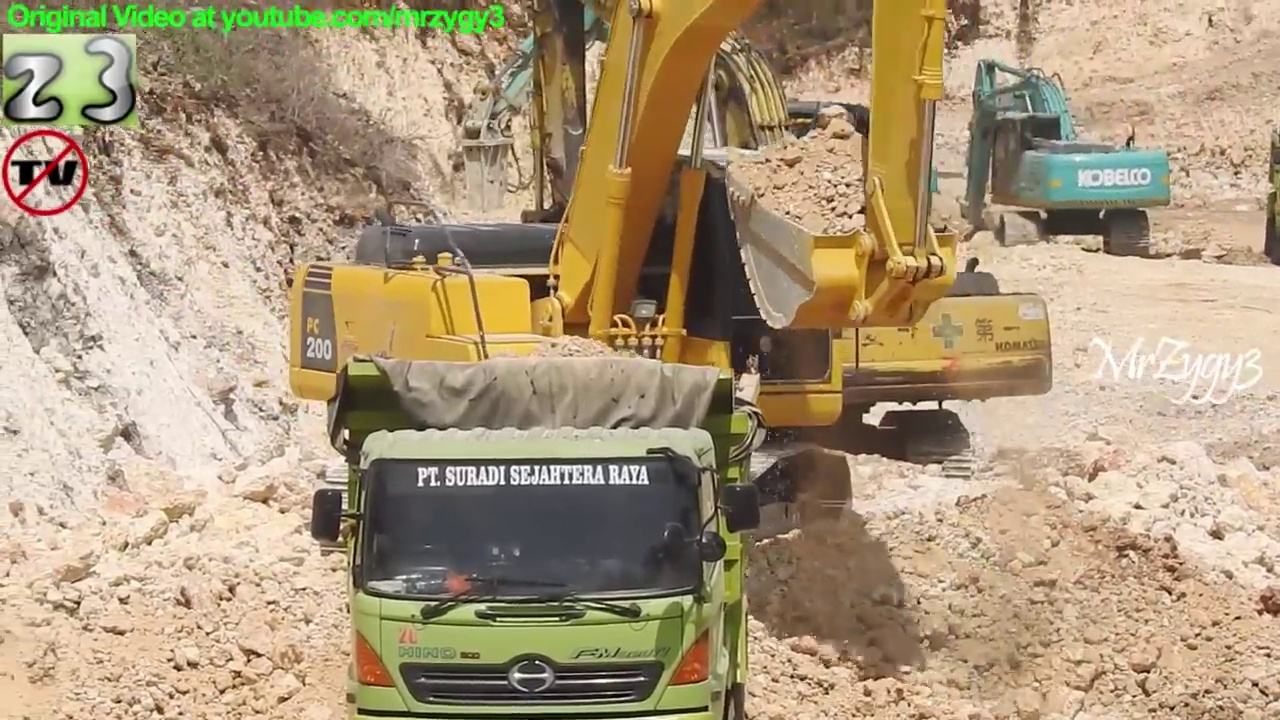excavator: (276, 1, 975, 576), (492, 1, 1062, 499), (451, 1, 955, 330), (948, 54, 1181, 268)
truck: (305, 344, 772, 720)
